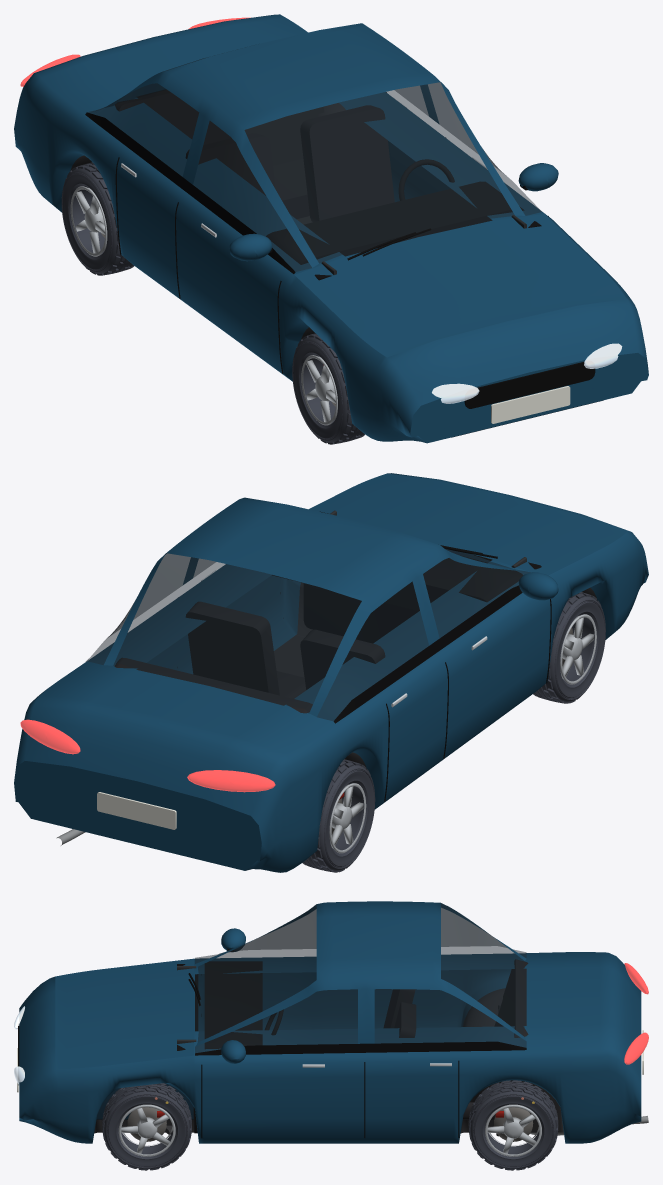
Rendered from harbor_commute.glb.
3 renders of one model, top to bottom at view 1: azimuth 30°, elevation 25°; view 2: azimuth 150°, elevation 25°; view 3: azimuth 270°, elevation 25°, orthographic. The views are drawn at different scales.
Parts seen in each view (by area): view 1: Shell, Greenhouse, HoodPanel, FrontSeatBack, Dashboard, NoseCap, car-tire_body4, RearBenchBack, car-tire_body2, Grille, _MeshInstance3D_16, FrontPlate (+7 smaller); view 2: Shell, Greenhouse, HoodPanel, TailCap, FrontSeatBack, car-tire_body4, car-tire_body2, Firewall, Dashboard, _MeshInstance3D_16, RearBenchBack, RearPlate (+6 smaller); view 3: Shell, Greenhouse, HoodPanel, car-tire_body3, Dashboard, car-tire_body, RearBenchBack, Rim3, Rim, FrontSeatBack, _MeshInstance3D_16, BrakeDisc (+4 smaller).
Boxes of the visible parts, x1,y1,x2,y2 form: Shell: (14, 14, 648, 442); Greenhouse: (85, 23, 541, 273); HoodPanel: (294, 214, 626, 357); FrontSeatBack: (300, 105, 394, 221); Dashboard: (266, 181, 524, 264); NoseCap: (410, 353, 648, 443); car-tire_body4: (61, 162, 133, 275); RearBenchBack: (115, 89, 324, 165); car-tire_body2: (292, 333, 364, 444); Grille: (464, 362, 595, 408); _MeshInstance3D_16: (185, 133, 275, 195); FrontPlate: (491, 386, 570, 423); Shell: (14, 473, 648, 872); Greenhouse: (86, 497, 530, 723); HoodPanel: (309, 473, 626, 575); TailCap: (14, 761, 261, 870); FrontSeatBack: (186, 601, 279, 695); car-tire_body4: (302, 759, 375, 872); car-tire_body2: (533, 592, 605, 703); Firewall: (303, 583, 418, 643); Dashboard: (272, 558, 522, 610); _MeshInstance3D_16: (300, 629, 385, 689); RearBenchBack: (114, 657, 312, 713); RearPlate: (97, 792, 176, 829); Shell: (19, 952, 641, 1143); Greenhouse: (195, 901, 526, 1055); HoodPanel: (55, 958, 194, 1069); car-tire_body3: (468, 1080, 558, 1170); Dashboard: (204, 961, 262, 1049); car-tire_body: (102, 1083, 191, 1170); RearBenchBack: (494, 959, 528, 1083); Rim3: (485, 1104, 541, 1156); Rim: (118, 1104, 175, 1156); FrontSeatBack: (394, 1002, 416, 1037); _MeshInstance3D_16: (383, 989, 415, 1028); BrakeDisc: (127, 1107, 166, 1141).
Bounding box in the file's own units: 2.17 × 1.48 × 4.59.
Materials: 31 (5 with a texture image).
